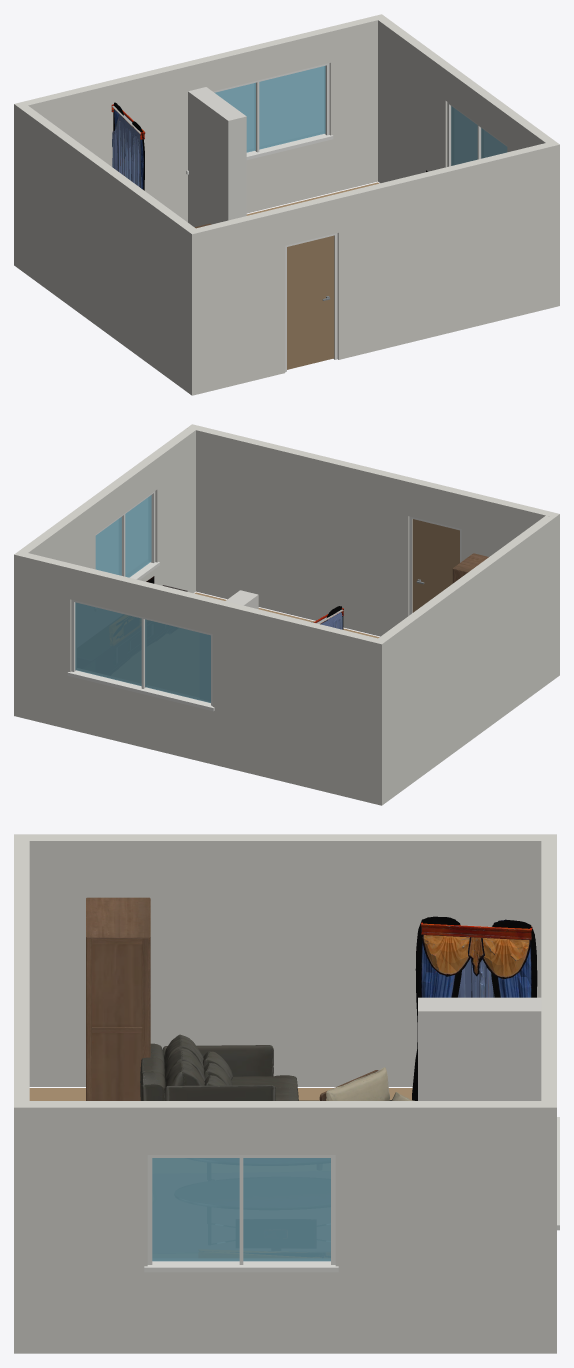
Rendered from layoutvlm.glb.
3 views of the same model, one above another, from view 1: azimuth 30°, elevation 25°; view 2: azimuth 150°, elevation 25°; view 3: azimuth 270°, elevation 25° (orthographic). The views are drawn at different scales.
Visible parts, largest first — view 1: wall|scenesmith_029__R00|0, wall|scenesmith_029__R00|2, wall|scenesmith_029__R00|1, wall|scenesmith_029__R00|3, scenesmith_029__R00_chimney-0 | structural enclosure, wall|scenesmith_029__R00|0 Door 0 | wood leaf, wall|scenesmith_029__R00|1 Window 0 | glazing, scenesmith_029__R00_curtains-0, wall|scenesmith_029__R00|3 Window 0 | glazing, wall|scenesmith_029__R00|1 Window 0 | jamb, wall|scenesmith_029__R00|0 Door 0 | jamb, wall|scenesmith_029__R00|3 Window 0 | jamb; view 2: wall|scenesmith_029__R00|1, wall|scenesmith_029__R00|0, wall|scenesmith_029__R00|2, wall|scenesmith_029__R00|3, wall|scenesmith_029__R00|1 Window 0 | glazing, wall|scenesmith_029__R00|0 Door 0 | wood leaf, wall|scenesmith_029__R00|3 Window 0 | glazing, wall|scenesmith_029__R00|1 Window 0 | jamb, wall|scenesmith_029__R00|3 Window 0 | jamb, wall|scenesmith_029__R00|0 Door 0 | jamb, raw_model; view 3: wall|scenesmith_029__R00|3, wall|scenesmith_029__R00|2, wall|scenesmith_029__R00|3 Window 0 | glazing, scenesmith_029__R00_chimney-0 | structural enclosure, raw_model, scenesmith_029__R00_curtains-0, wall|scenesmith_029__R00|0, wall|scenesmith_029__R00|1, raw_model.005, wall|scenesmith_029__R00|3 Window 0 | jamb, raw_model.001, floor.
Boxes of the visible parts, x1=… form: wall|scenesmith_029__R00|0: x1=187, y1=141, x2=559, y2=393; wall|scenesmith_029__R00|2: x1=14, y1=103, x2=200, y2=395; wall|scenesmith_029__R00|1: x1=14, y1=16, x2=377, y2=268; wall|scenesmith_029__R00|3: x1=373, y1=14, x2=559, y2=307; scenesmith_029__R00_chimney-0 | structural enclosure: x1=188, y1=87, x2=246, y2=227; wall|scenesmith_029__R00|0 Door 0 | wood leaf: x1=287, y1=235, x2=334, y2=369; wall|scenesmith_029__R00|1 Window 0 | glazing: x1=214, y1=65, x2=325, y2=152; scenesmith_029__R00_curtains-0: x1=111, y1=102, x2=145, y2=190; wall|scenesmith_029__R00|3 Window 0 | glazing: x1=451, y1=106, x2=507, y2=165; wall|scenesmith_029__R00|1 Window 0 | jamb: x1=186, y1=63, x2=333, y2=174; wall|scenesmith_029__R00|0 Door 0 | jamb: x1=285, y1=233, x2=337, y2=371; wall|scenesmith_029__R00|3 Window 0 | jamb: x1=447, y1=102, x2=507, y2=166; wall|scenesmith_029__R00|1: x1=23, y1=553, x2=386, y2=805; wall|scenesmith_029__R00|0: x1=187, y1=424, x2=559, y2=636; wall|scenesmith_029__R00|2: x1=373, y1=514, x2=559, y2=805; wall|scenesmith_029__R00|3: x1=14, y1=428, x2=195, y2=717; wall|scenesmith_029__R00|1 Window 0 | glazing: x1=75, y1=602, x2=210, y2=702; wall|scenesmith_029__R00|0 Door 0 | wood leaf: x1=412, y1=519, x2=459, y2=612; wall|scenesmith_029__R00|3 Window 0 | glazing: x1=95, y1=495, x2=151, y2=577; wall|scenesmith_029__R00|1 Window 0 | jamb: x1=67, y1=599, x2=214, y2=711; wall|scenesmith_029__R00|3 Window 0 | jamb: x1=95, y1=491, x2=159, y2=579; wall|scenesmith_029__R00|0 Door 0 | jamb: x1=409, y1=516, x2=461, y2=615; raw_model: x1=452, y1=553, x2=488, y2=583; wall|scenesmith_029__R00|3: x1=29, y1=1101, x2=556, y2=1353; wall|scenesmith_029__R00|2: x1=29, y1=834, x2=556, y2=1086; wall|scenesmith_029__R00|3 Window 0 | glazing: x1=152, y1=1158, x2=330, y2=1261; scenesmith_029__R00_chimney-0 | structural enclosure: x1=418, y1=997, x2=541, y2=1100; raw_model: x1=86, y1=897, x2=150, y2=1100; scenesmith_029__R00_curtains-0: x1=412, y1=916, x2=537, y2=1100; wall|scenesmith_029__R00|0: x1=14, y1=834, x2=29, y2=1353; wall|scenesmith_029__R00|1: x1=541, y1=834, x2=556, y2=1353; raw_model.005: x1=140, y1=1034, x2=391, y2=1100; wall|scenesmith_029__R00|3 Window 0 | jamb: x1=144, y1=1155, x2=338, y2=1272; raw_model.001: x1=319, y1=1067, x2=414, y2=1100; floor: x1=29, y1=1088, x2=412, y2=1100.
Size of the model in its own units: 6.23 by 2.61 by 5.23.
Materials: 15 (7 with a texture image).
